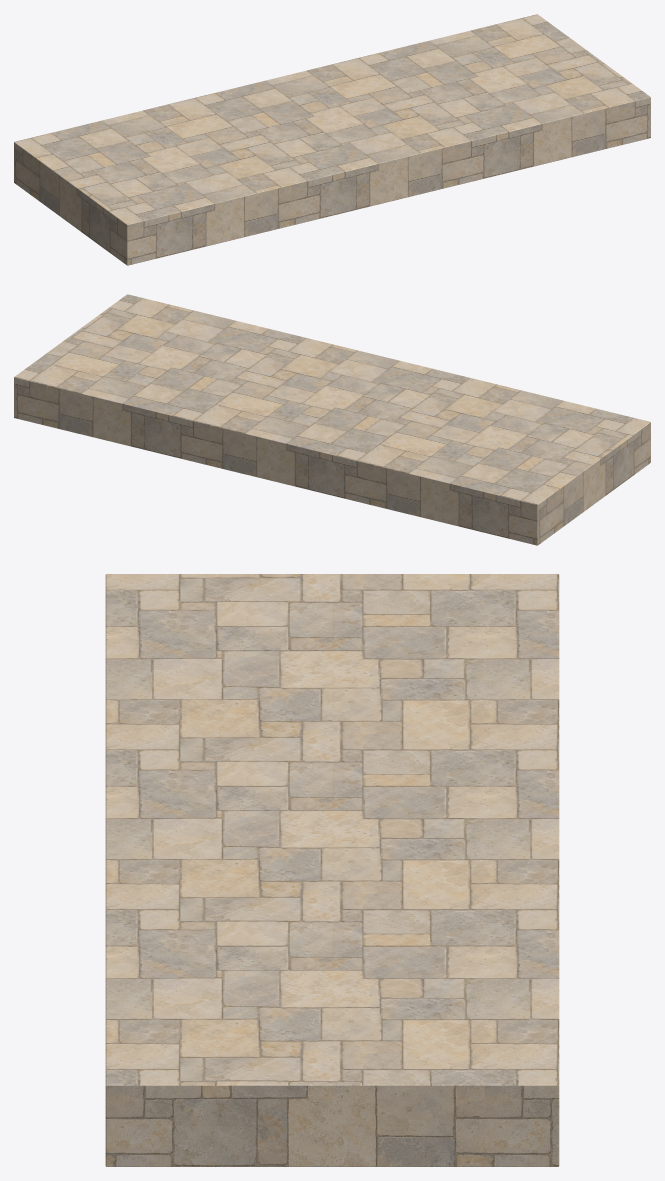
File: landing.glb
3 renders of one model, top to bottom at view 1: azimuth 30°, elevation 25°; view 2: azimuth 150°, elevation 25°; view 3: azimuth 270°, elevation 25°, orthographic. The views are drawn at different scales.
Parts seen in each view (by area): view 1: landing; view 2: landing; view 3: landing.
Part boxes in pixels (left/top/right/bottom): landing: left=14, top=14, right=650, bottom=265; landing: left=14, top=294, right=650, bottom=545; landing: left=105, top=574, right=559, bottom=1166.
Bounding box in the file's own units: 3.2 × 0.24 × 1.2.
1 material, 1 textured.
